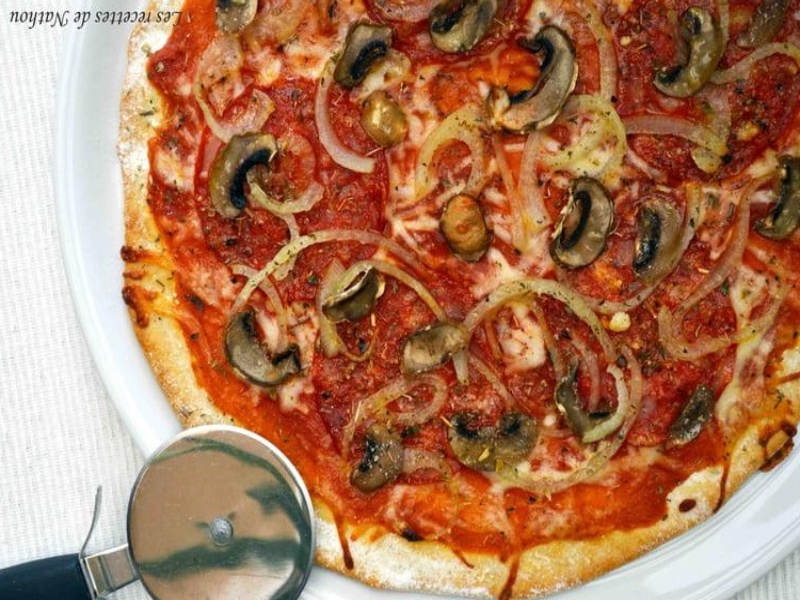champignon: (495, 25, 579, 130), (539, 174, 619, 273), (438, 403, 550, 473), (650, 5, 731, 97), (205, 131, 282, 223), (218, 307, 304, 389), (324, 21, 411, 95), (421, 1, 513, 64), (747, 141, 800, 246), (628, 192, 688, 284), (346, 416, 412, 494)
